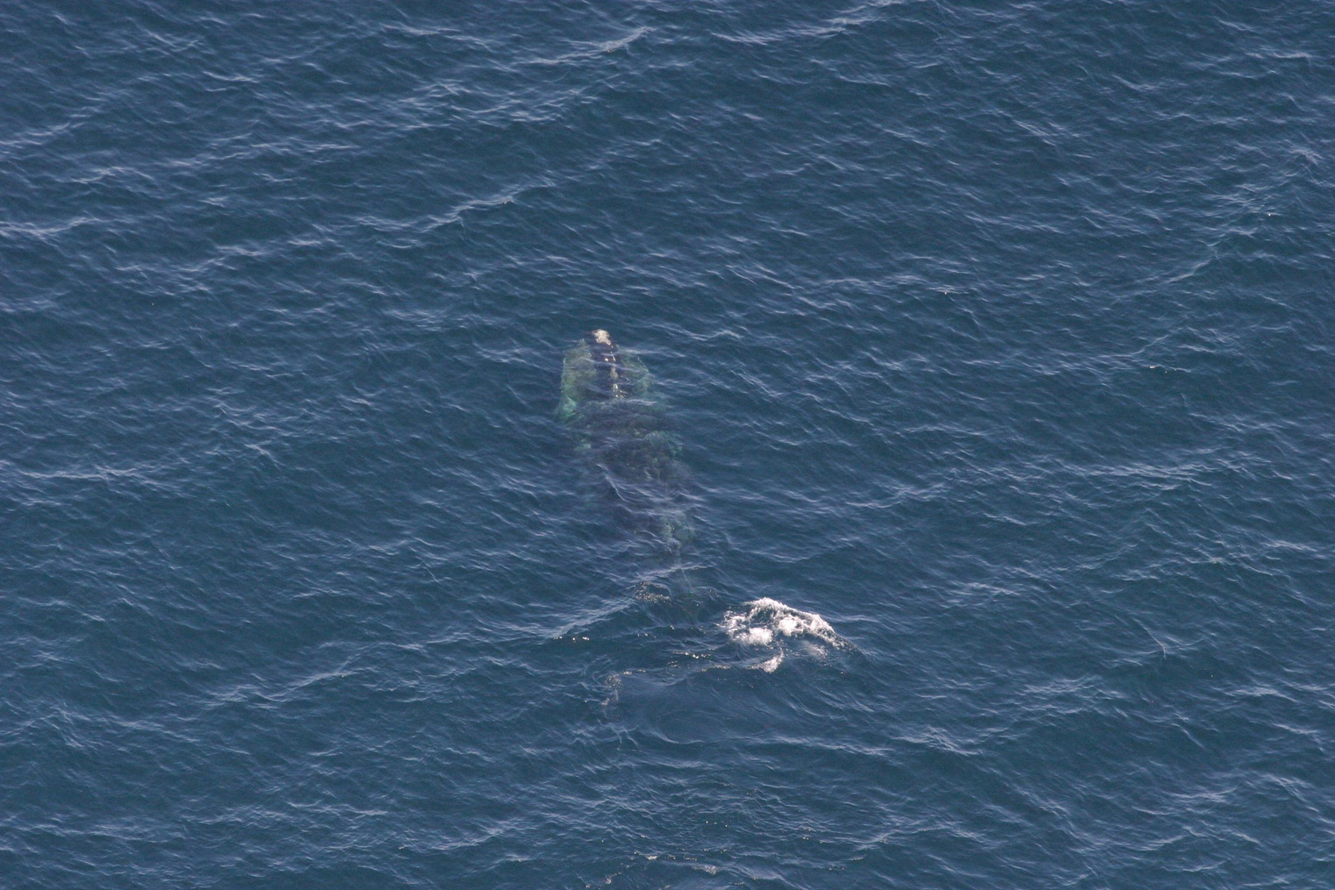whale: (552, 326, 827, 704)
